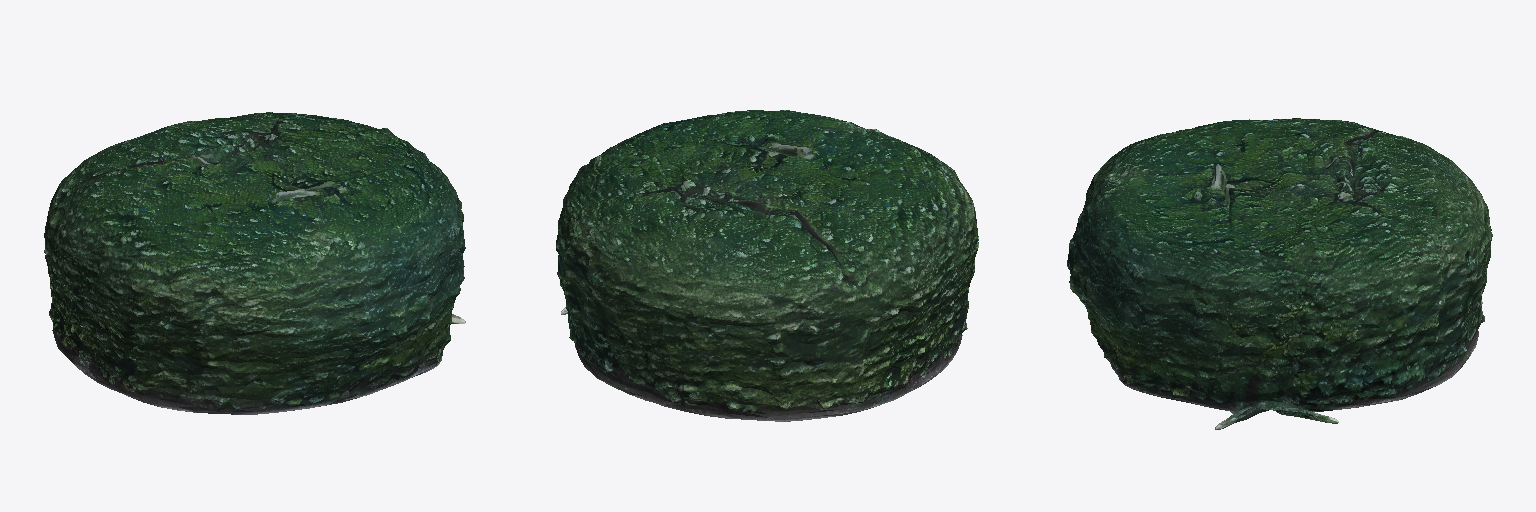
The picture shows the model from 3 angles: view 1: azimuth 30°, elevation 25°; view 2: azimuth 150°, elevation 25°; view 3: azimuth 270°, elevation 25°; orthographic projection.
Visible parts, largest first — view 1: tripo_node_8621c51e-32bd-4dac-a91e-d2b921c15940; view 2: tripo_node_8621c51e-32bd-4dac-a91e-d2b921c15940; view 3: tripo_node_8621c51e-32bd-4dac-a91e-d2b921c15940.
Part boxes in pixels (bbox=[...]): tripo_node_8621c51e-32bd-4dac-a91e-d2b921c15940: bbox=[44, 112, 465, 414]; tripo_node_8621c51e-32bd-4dac-a91e-d2b921c15940: bbox=[556, 110, 978, 421]; tripo_node_8621c51e-32bd-4dac-a91e-d2b921c15940: bbox=[1067, 118, 1492, 429].
Bounding box in the file's own units: 0.9109 × 0.4286 × 0.9386.
Materials: 1 (1 with a texture image).